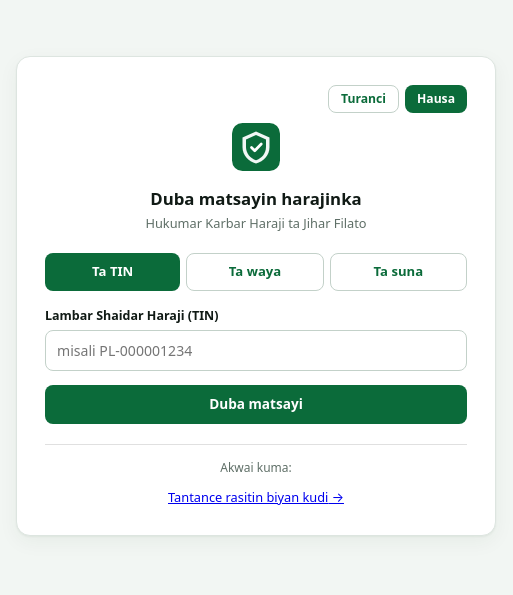
it: a citizen whose name matches several people › tells them how to reach their own record
Step 1. Click the button "Ta suna" → point(398, 272), box x1=330 y1=253 x2=467 y2=290
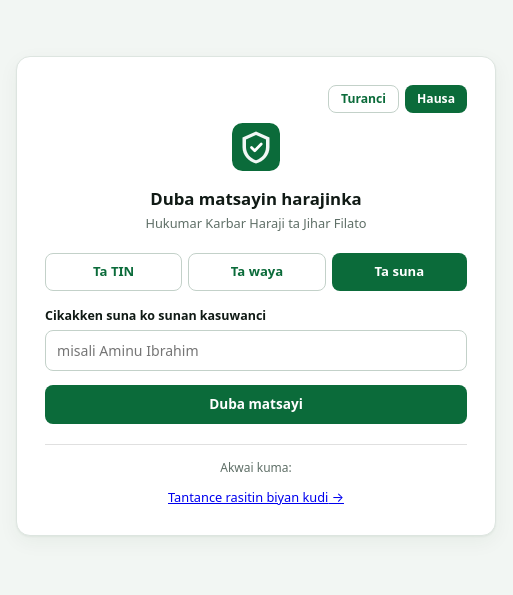
Step 2. Type "Danjuma" into the field labelled "Cikakken suna ko sunan kasuwanci" → point(256, 351), box x1=45 y1=330 x2=467 y2=371
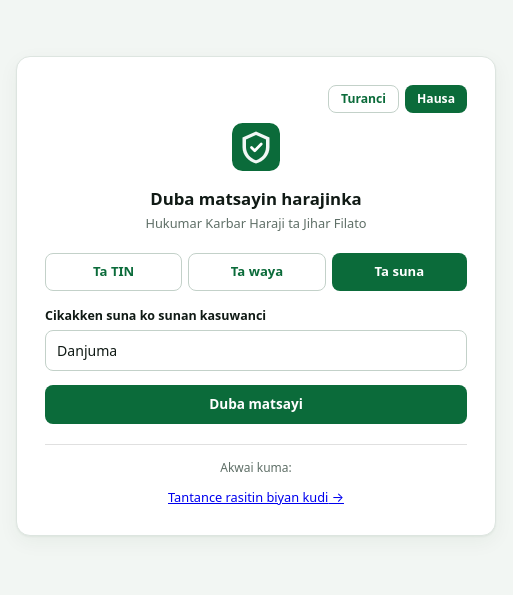
Step 3. Click the button "Duba matsayi" → point(256, 405), box x1=45 y1=385 x2=467 y2=424
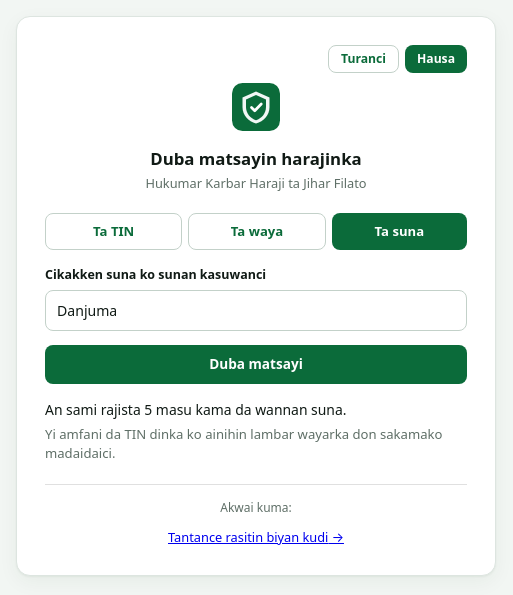
Expected: the text "Yi amfani da TIN dinka ko ainihin lambar wayarka don sakamako madaidaici." is shown, x1=45 y1=424 x2=467 y2=464
